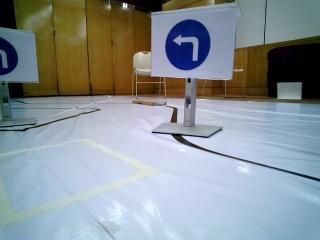left: (157, 15, 225, 72)
